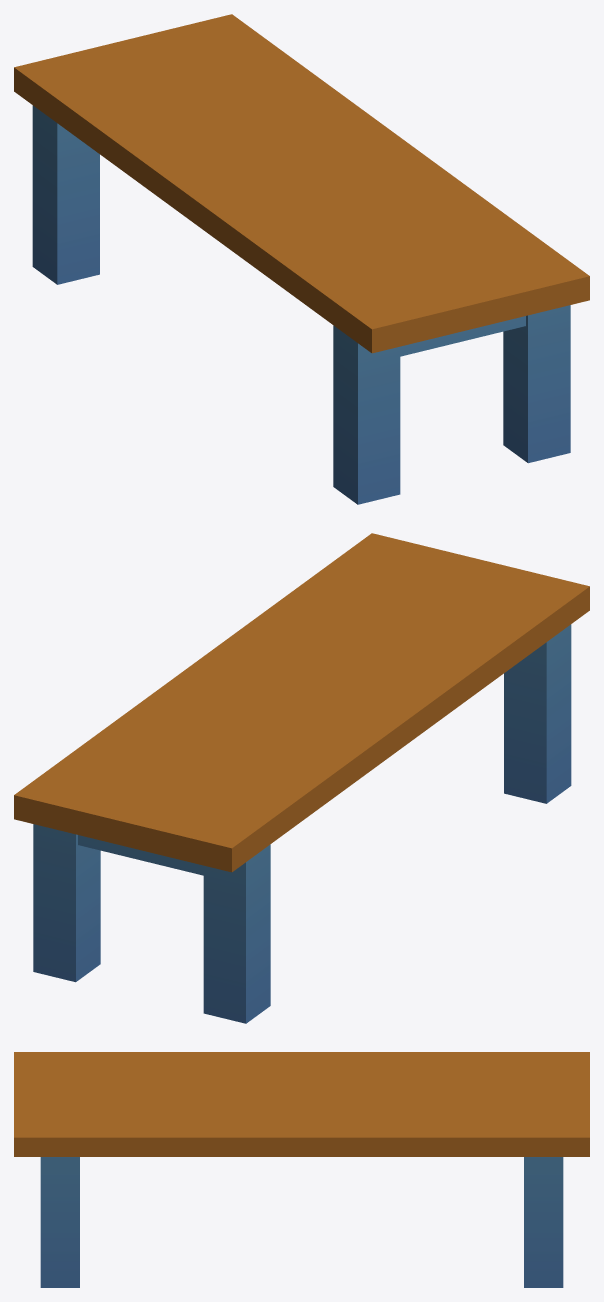
The model's file is Bench_1_B_8.glb.
3 views of the same model, one above another, from view 1: azimuth 30°, elevation 25°; view 2: azimuth 150°, elevation 25°; view 3: azimuth 270°, elevation 25° (orthographic). The views are drawn at different scales.
Parts seen in each view (by area): view 1: Bench_1_B_8; view 2: Bench_1_B_8; view 3: Bench_1_B_8.
Part boxes in pixels (bbox=[...]): Bench_1_B_8: bbox=[14, 14, 589, 504]; Bench_1_B_8: bbox=[14, 533, 589, 1023]; Bench_1_B_8: bbox=[14, 1052, 589, 1287].
Bounding box in the file's own units: 0.4068 × 0.3354 × 1.16.
2 materials, 2 textured.
